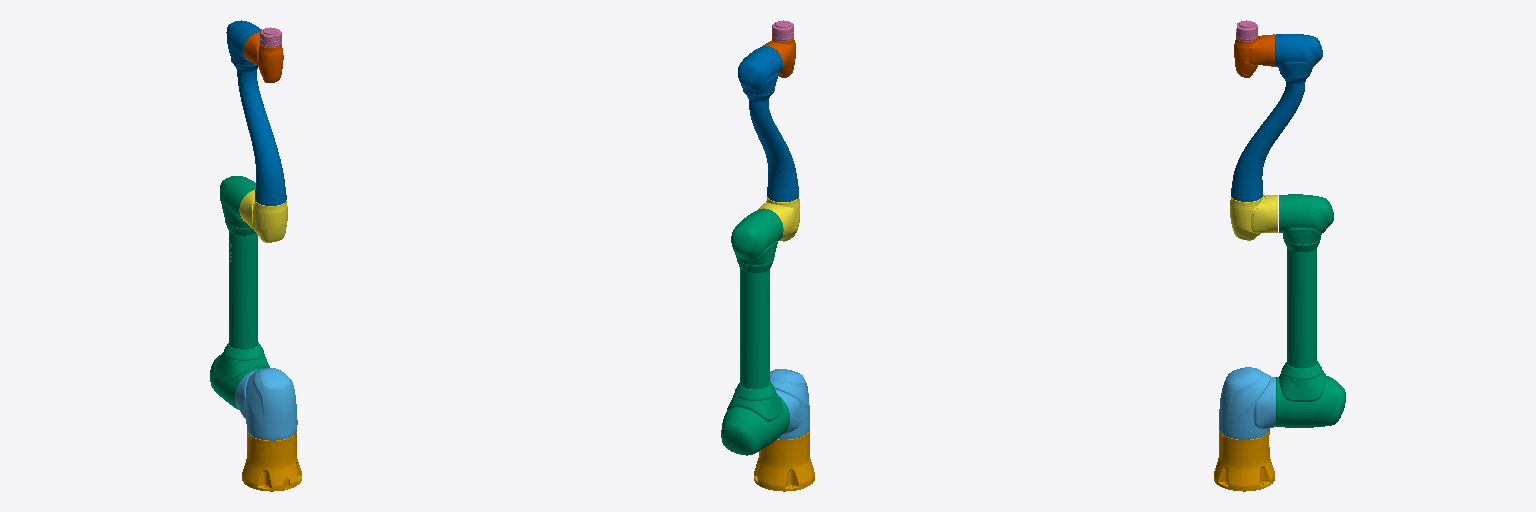
The robot description file, URDF, robot "h2017":
<?xml version="1.0" ?>
<!-- =================================================================================== -->
<!-- |    This document was autogenerated by xacro from /home/theochoi/ros2_ws/src/doosan-robot2-MuJoCo_support/dsr_description2/xacro/h2017.urdf.xacro | -->
<!-- |    EDITING THIS FILE BY HAND IS NOT RECOMMENDED                                 | -->
<!-- =================================================================================== -->

<robot name="h2017">

  <mujoco>
        <compiler 
        meshdir="assets" 
        balanceinertia="true" 
        discardvisual="false" />
  </mujoco>

  <material name="black">
    <color rgba="0.0 0.0 0.0 1.0"/>
  </material>
  <material name="white">
    <color rgba="1.0 1.0 1.0 1.0"/>
  </material>
  <material name="orange">
    <color rgba="1.0 0.4 0.0 1.0"/>
  </material>
  <material name="dr_gray">
    <color rgba="0.490 0.490 0.486 1.0"/>
  </material>
  <material name="dr_white">
    <color rgba="0.941 0.941 0.941 1.0"/>
  </material>
  <material name="dr_blue">
    <color rgba="0 0 0.15 1"/>
  </material>
  <link name="base_link">
    <inertial>
      <mass value="8.537"/>
      <origin xyz="1.8e-05   -0.002377    0.095608"/>
      <inertia ixx="0.079499" ixy="2.9382e-05" ixz="1.7529e-05" iyy="0.076993" iyz="-0.0009938" izz="0.067833"/>
    </inertial>
    <visual>
      <origin rpy="0 0 0" xyz="0 0 0"/>
      <geometry>
        <mesh filename="H2017_0_0.stl" scale="0.001 0.001 0.001"/>
      </geometry>
    </visual>
  </link>
  <!-- joint 1 -->
  <joint name="joint_1" type="revolute">
    <parent link="base_link"/>
    <child link="link_1"/>
    <origin rpy="0 0 0" xyz="0 0 0.3443"/>
    <axis xyz="0 0 1"/>\
    <limit effort="372" lower="-6.2832" upper="6.2832" velocity="1.7453"/>
    <dynamics friction="0"/>
  </joint>
  <link name="link_1">
    <inertial>
      <mass value="20.253"/>
      <origin xyz="-5e-05     0.11854   -0.059979"/>
      <inertia ixx="0.5323" ixy="-6.2817e-05" ixz="-7.5664e-06" iyy="0.2807" iyz="-0.14899" izz="0.34857"/>
    </inertial>
    <collision>
      <geometry>
        <cylinder length="0.2" radius="0.1"/>
      </geometry>
    </collision>
    <visual>
      <origin rpy="0 0 0" xyz="0 0 0"/>
      <geometry>
        <mesh filename="H2017_1_0.stl" scale="0.001 0.001 0.001"/>
      </geometry>
    </visual>
  </link>
  <!-- joint2 -->
  <joint name="joint_2" type="revolute">
    <parent link="link_1"/>
    <child link="link_2"/>
    <origin rpy="0 -1.571 -1.571" xyz="0 0.0099 0"/>
    <axis xyz="0 0 1"/>
    <limit effort="372" lower="-2.1817" upper="2.1817" velocity="1.3963"/>
    <dynamics friction="0"/>
  </joint>
  <link name="link_2">
    <inertial>
      <mass value="28.536"/>
      <origin xyz="0.38055    -1.7e-05     0.22527"/>
      <inertia ixx="0.15388" ixy="-0.00022213" ixz="0.11801" iyy="3.0424" iyz="-5.3325e-05" izz="3.0015"/>
    </inertial>
    <collision>
      <origin rpy="0 -1.571 0" xyz="0.3 0 0.1525"/>
      <geometry>
        <cylinder length="0.75" radius="0.08"/>
      </geometry>
    </collision>
    <visual>
      <origin rpy="0 0 0" xyz="0 0 0"/>
      <geometry>
        <mesh filename="H2017_2_0.stl" scale="0.001 0.001 0.001"/>
      </geometry>
    </visual>
    <visual>
      <origin rpy="0 0 0" xyz="0 0 0"/>
      <geometry>
        <mesh filename="H2017_2_1.stl" scale="0.001 0.001 0.001"/>
      </geometry>
    </visual>
    <visual>
      <origin rpy="0 0 0" xyz="0 0 0"/>
      <geometry>
        <mesh filename="H2017_2_2.stl" scale="0.001 0.001 0.001"/>
      </geometry>
    </visual>
  </link>
  <!-- joint3 -->
  <joint name="joint_3" type="revolute">
    <parent link="link_2"/>
    <child link="link_3"/>
    <origin rpy="0 0 1.571" xyz="0.845 0 0"/>
    <axis xyz="0 0 1"/>
    <limit effort="372" lower="-2.7925" upper="2.7925" velocity="1.7453"/>
    <dynamics friction="0"/>
  </joint>
  <link name="link_3">
    <inertial>
      <mass value="6.421"/>
      <origin xyz="-5.9e-05   -0.008325    0.049527"/>
      <inertia ixx="0.04463" ixy="3.0207e-05" ixz="-1.0987e-05" iyy="0.041031" iyz="-0.0029929" izz="0.028983"/>
    </inertial>
    <visual>
      <origin rpy="0 0 0" xyz="0 0 0"/>
      <geometry>
        <mesh filename="H2017_3_0.stl" scale="0.001 0.001 0.001"/>
      </geometry>
    </visual>
  </link>
  <!-- joint4 -->
  <joint name="joint_4" type="revolute">
    <parent link="link_3"/>
    <child link="link_4"/>
    <origin rpy="1.571 0 0" xyz="0 -0.734 0"/>
    <axis xyz="0 0 1"/>
    <limit effort="163" lower="-6.2832" upper="6.2832" velocity="3.1416"/>
    <dynamics friction="0"/>
  </joint>
  <link name="link_4">
    <inertial>
      <mass value="7.59"/>
      <origin xyz="7.7e-05     0.12896    -0.22056"/>
      <inertia ixx="0.60329" ixy="-6.8213e-05" ixz="-0.00013439" iyy="0.54966" iyz="-0.159" izz="0.078126"/>
    </inertial>
    <collision>
      <origin rpy="-0.55 0 0" xyz="0 0.07 -0.3"/>
      <geometry>
        <cylinder length="0.4" radius="0.07"/>
      </geometry>
    </collision>
    <visual>
      <origin rpy="0 0 0" xyz="0 0 0"/>
      <geometry>
        <mesh filename="H2017_4_0.stl" scale="0.001 0.001 0.001"/>
      </geometry>
    </visual>
    <visual>
      <origin rpy="0 0 0" xyz="0 0 0"/>
      <geometry>
        <mesh filename="H2017_4_1.stl" scale="0.001 0.001 0.001"/>
      </geometry>
    </visual>
  </link>
  <!-- joint5 -->
  <joint name="joint_5" type="revolute">
    <parent link="link_4"/>
    <child link="link_5"/>
    <origin rpy="-1.571 0 0" xyz="0 0 0"/>
    <axis xyz="0 0 1"/>
    <limit effort="96" lower="-6.2832" upper="6.2832" velocity="3.1416"/>
    <dynamics friction="0"/>
  </joint>
  <link name="link_5">
    <inertial>
      <mass value="4.099"/>
      <origin xyz="-6.1e-05   -0.000589    0.048812"/>
      <inertia ixx="0.021303" ixy="2.545e-05" ixz="-4.3439e-06" iyy="0.023894" iyz="6.0426e-05" izz="0.014587"/>
    </inertial>
    <collision>
      <origin rpy="1.571 0 0" xyz="0 0 0"/>
      <geometry>
        <cylinder length="0.15" radius="0.08"/>
      </geometry>
    </collision>
    <visual>
      <origin rpy="0 0 0" xyz="0 0 0"/>
      <geometry>
        <mesh filename="H2017_5_0.stl" scale="0.001 0.001 0.001"/>
      </geometry>
    </visual>
  </link>
  <!-- joint6 -->
  <joint name="joint_6" type="revolute">
    <parent link="link_5"/>
    <child link="link_6"/>
    <origin rpy="1.571 0 0" xyz="0 -0.121 0"/>
    <axis xyz="0 0 1"/>
    <limit effort="50" lower="-6.2832" upper="6.2832" velocity="3.927"/>
    <dynamics friction="0"/>
  </joint>
  <link name="link_6">
    <inertial>
      <mass value="0.897"/>
      <origin xyz="-3.3e-05     3.6e-05   -0.049443"/>
      <inertia ixx="0.0086582" ixy="7.8198e-06" ixz="2.2495e-06" iyy="0.0068184" iyz="5.6115e-06" izz="0.0080729"/>
    </inertial>
    <visual>
      <origin rpy="0 0 0" xyz="0 0 0"/>
      <geometry>
        <mesh filename="H2017_6_0.stl" scale="0.001 0.001 0.001"/>
      </geometry>
    </visual>
  </link>
  <!-- Transmission 1 -->
  <transmission name="tran1">
    <type>transmission_interface/SimpleTransmission</type>
    <joint name="joint1">
      <hardwareInterface>hardware_interface/PositionJointInterface</hardwareInterface>
    </joint>
    <actuator name="motor1">
      <hardwareInterface>hardware_interface/PositionJointInterface</hardwareInterface>
      <mechanicalReduction>1</mechanicalReduction>
    </actuator>
  </transmission>
  <!-- Transmission 2 -->
  <transmission name="tran2">
    <type>transmission_interface/SimpleTransmission</type>
    <joint name="joint2">
      <hardwareInterface>hardware_interface/PositionJointInterface</hardwareInterface>
    </joint>
    <actuator name="motor2">
      <hardwareInterface>hardware_interface/PositionJointInterface</hardwareInterface>
      <mechanicalReduction>1</mechanicalReduction>
    </actuator>
  </transmission>
  <!-- Transmission 3 -->
  <transmission name="tran3">
    <type>transmission_interface/SimpleTransmission</type>
    <joint name="joint3">
      <hardwareInterface>hardware_interface/PositionJointInterface</hardwareInterface>
    </joint>
    <actuator name="motor3">
      <hardwareInterface>hardware_interface/PositionJointInterface</hardwareInterface>
      <mechanicalReduction>1</mechanicalReduction>
    </actuator>
  </transmission>
  <!-- Transmission 4 -->
  <transmission name="tran4">
    <type>transmission_interface/SimpleTransmission</type>
    <joint name="joint4">
      <hardwareInterface>hardware_interface/PositionJointInterface</hardwareInterface>
    </joint>
    <actuator name="motor4">
      <hardwareInterface>hardware_interface/PositionJointInterface</hardwareInterface>
      <mechanicalReduction>1</mechanicalReduction>
    </actuator>
  </transmission>
  <!-- Transmission 5 -->
  <transmission name="tran5">
    <type>transmission_interface/SimpleTransmission</type>
    <joint name="joint5">
      <hardwareInterface>hardware_interface/PositionJointInterface</hardwareInterface>
    </joint>
    <actuator name="motor5">
      <hardwareInterface>hardware_interface/PositionJointInterface</hardwareInterface>
      <mechanicalReduction>1</mechanicalReduction>
    </actuator>
  </transmission>
  <!-- Transmission 6 -->
  <transmission name="tran6">
    <type>transmission_interface/SimpleTransmission</type>
    <joint name="joint6">
      <hardwareInterface>hardware_interface/PositionJointInterface</hardwareInterface>
    </joint>
    <actuator name="motor6">
      <hardwareInterface>hardware_interface/PositionJointInterface</hardwareInterface>
      <mechanicalReduction>1</mechanicalReduction>
    </actuator>
  </transmission>
  <!-- ros_control plugin -->
  <gazebo>
    <plugin filename="ign_ros2_control-system" name="ign_ros2_control::IgnitionROS2ControlPlugin">
      <ros>
        <namespace></namespace>
      </ros>
      <parameters>/home/theochoi/ros2_ws/install/dsr_controller2/share/dsr_controller2/config/dsr_controller2_gz.yaml</parameters>
    </plugin>
  </gazebo>
  <!-- Base -->
  <gazebo reference="base_0">
    <kp>100000.0</kp>
    <kd>100.0</kd>
    <mu1>30.0</mu1>
    <mu2>30.0</mu2>
    <maxVel>1.0</maxVel>
    <minDepth>0.001</minDepth>
  </gazebo>
  <!-- Link1 -->
  <gazebo reference="link1">
    <kp>100000.0</kp>
    <kd>100.0</kd>
    <mu1>30.0</mu1>
    <mu2>30.0</mu2>
    <maxVel>1.0</maxVel>
    <minDepth>0.001</minDepth>
  </gazebo>
  <!-- Link2 -->
  <gazebo reference="link2">
    <kp>100000.0</kp>
    <kd>100.0</kd>
    <mu1>30.0</mu1>
    <mu2>30.0</mu2>
    <maxVel>1.0</maxVel>
    <minDepth>0.001</minDepth>
  </gazebo>
  <!-- Link3 -->
  <gazebo reference="link3">
    <kp>100000.0</kp>
    <kd>100.0</kd>
    <mu1>30.0</mu1>
    <mu2>30.0</mu2>
    <maxVel>1.0</maxVel>
    <minDepth>0.001</minDepth>
  </gazebo>
  <!-- Link4 -->
  <gazebo reference="link4">
    <kp>100000.0</kp>
    <kd>100.0</kd>
    <mu1>30.0</mu1>
    <mu2>30.0</mu2>
    <maxVel>1.0</maxVel>
    <minDepth>0.001</minDepth>
  </gazebo>
  <!-- Link5 -->
  <gazebo reference="link5">
    <kp>100000.0</kp>
    <kd>100.0</kd>
    <mu1>30.0</mu1>
    <mu2>30.0</mu2>
    <maxVel>1.0</maxVel>
    <minDepth>0.001</minDepth>
  </gazebo>
  <!-- Link6 -->
  <gazebo reference="link6">
    <kp>100000.0</kp>
    <kd>100.0</kd>
    <mu1>30.0</mu1>
    <mu2>30.0</mu2>
    <maxVel>1.0</maxVel>
    <minDepth>0.001</minDepth>
  </gazebo>
  <link name="world"/>
  <!-- World fixed joint-->
  <joint name="world_fixed" type="fixed">
    <origin rpy="0 0 0" xyz="0 0 0"/>
    <parent link="world"/>
    <child link="base_link"/>
  </joint>
  <ros2_control name="h2017" type="system">
    <hardware>
      <plugin>dsr_hardware2/DRHWInterface</plugin>
      <param name="host"></param>
      <param name="rt_host"></param>
      <param name="port"></param>
      <param name="mode"></param>
      <param name="model"></param>
    </hardware>
    <joint name="joint_1">
      <command_interface name="position">
        <param name="min">{-2*pi}</param>
        <param name="max">{2*pi}</param>
      </command_interface>
      <command_interface name="velocity">
        <param name="min">-3.15</param>
        <param name="max">3.15</param>
      </command_interface>
      <state_interface name="position">
        <param name="initial_value">0.0</param>
      </state_interface>
      <state_interface name="velocity"/>
    </joint>
    <joint name="joint_2">
      <command_interface name="position">
        <param name="min">{-2*pi}</param>
        <param name="max">{2*pi}</param>
      </command_interface>
      <command_interface name="velocity">
        <param name="min">-3.15</param>
        <param name="max">3.15</param>
      </command_interface>
      <state_interface name="position">
        <param name="initial_value">0.0</param>
      </state_interface>
      <state_interface name="velocity"/>
    </joint>
    <joint name="joint_3">
      <command_interface name="position">
        <param name="min">{-pi}</param>
        <param name="max">{pi}</param>
      </command_interface>
      <command_interface name="velocity">
        <param name="min">-3.15</param>
        <param name="max">3.15</param>
      </command_interface>
      <state_interface name="position">
        <param name="initial_value">0.0</param>
      </state_interface>
      <state_interface name="velocity"/>
    </joint>
    <joint name="joint_4">
      <command_interface name="position">
        <param name="min">{-2*pi}</param>
        <param name="max">{2*pi}</param>
      </command_interface>
      <command_interface name="velocity">
        <param name="min">-3.2</param>
        <param name="max">3.2</param>
      </command_interface>
      <state_interface name="position">
        <param name="initial_value">0.0</param>
      </state_interface>
      <state_interface name="velocity"/>
    </joint>
    <joint name="joint_5">
      <command_interface name="position">
        <param name="min">{-2*pi}</param>
        <param name="max">{2*pi}</param>
      </command_interface>
      <command_interface name="velocity">
        <param name="min">-3.2</param>
        <param name="max">3.2</param>
      </command_interface>
      <state_interface name="position">
        <param name="initial_value">0.0</param>
      </state_interface>
      <state_interface name="velocity"/>
    </joint>
    <joint name="joint_6">
      <command_interface name="position">
        <param name="min">{-2*pi}</param>
        <param name="max">{2*pi}</param>
      </command_interface>
      <command_interface name="velocity">
        <param name="min">-3.2</param>
        <param name="max">3.2</param>
      </command_interface>
      <state_interface name="position">
        <param name="initial_value">0.0</param>
      </state_interface>
      <state_interface name="velocity"/>
    </joint>
  </ros2_control>
</robot>

--- Render facts (derived) ---
Views: 3 orthographic renders of the robot side by side, from view 1: azimuth 30°, elevation 25°; view 2: azimuth 150°, elevation 25°; view 3: azimuth 270°, elevation 25°.
Model h2017 with 8 links and 7 joints (6 revolute, 1 fixed), rooted at world, posed every joint at zero.
Visible links, largest first — view 1: link_2, link_4, link_1, base_link, link_3, link_5; view 2: link_2, link_4, base_link, link_1, link_3, link_5; view 3: link_2, link_4, link_1, base_link, link_3, link_5.
Link boxes in pixels (<box>): link_2: <box>210,176,269,409</box>; link_4: <box>226,20,286,205</box>; link_1: <box>235,368,297,440</box>; base_link: <box>242,432,301,491</box>; link_3: <box>239,190,287,242</box>; link_5: <box>243,32,283,82</box>; link_2: <box>721,209,789,455</box>; link_4: <box>738,46,798,201</box>; base_link: <box>754,431,814,491</box>; link_1: <box>770,369,809,439</box>; link_3: <box>758,197,799,241</box>; link_5: <box>762,38,795,77</box>; link_2: <box>1276,194,1345,427</box>; link_4: <box>1231,34,1322,201</box>; link_1: <box>1219,367,1275,439</box>; base_link: <box>1214,431,1274,491</box>; link_3: <box>1230,195,1277,240</box>; link_5: <box>1234,34,1274,77</box>.
Size in the robot's own frame: 0.248 by 0.5376 by 2.04 metres.
Meshes: 10 distinct files referenced, 10 mesh visuals loaded (10 binary STL).
